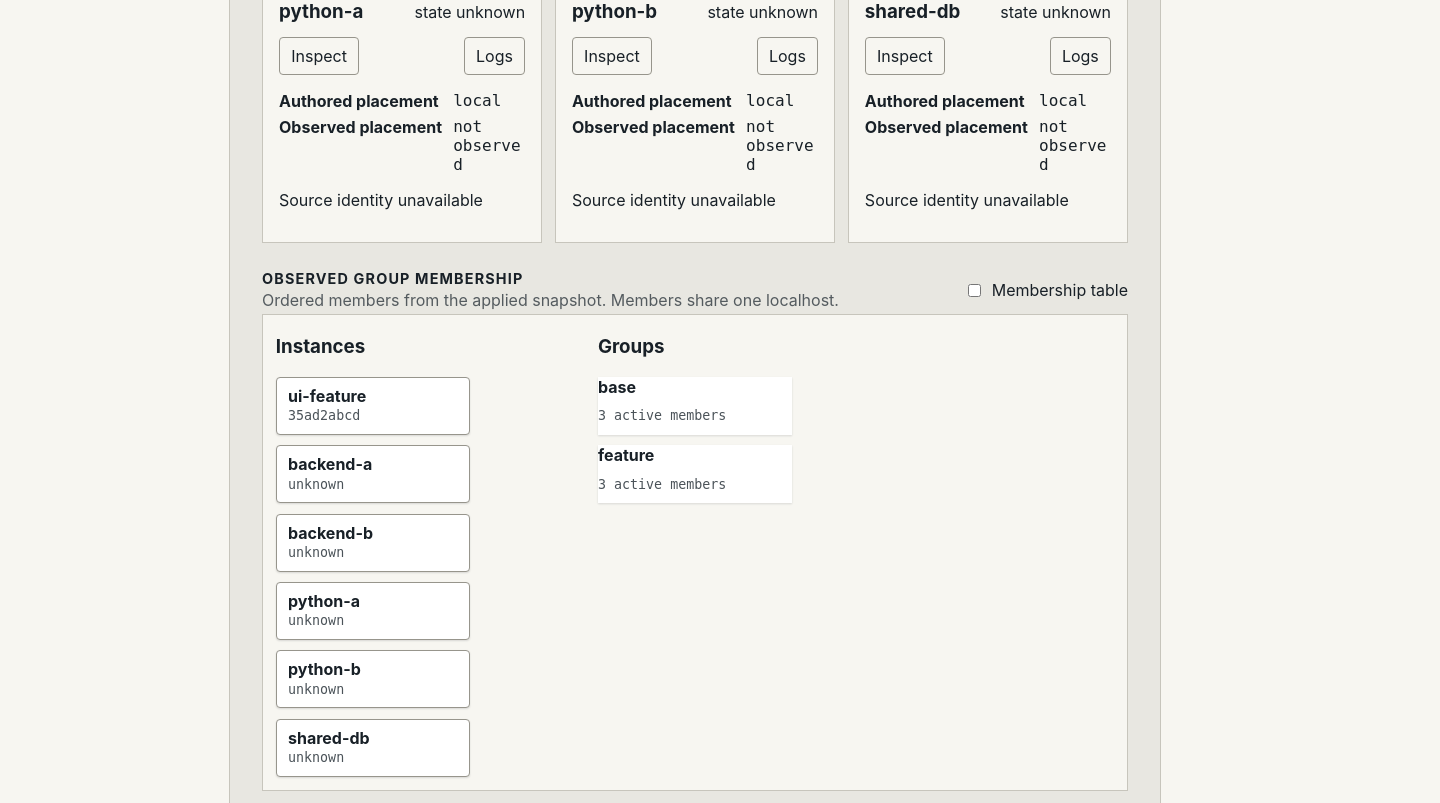
it: APM ProjectRunner GUI › shows a failed post-switch report with durable error and rollback observations
The image size is (1440, 803).
(page scrolled)
Click the button "ui-feature 35ad2abcd".
click(373, 406)  # box [276,377,470,435]
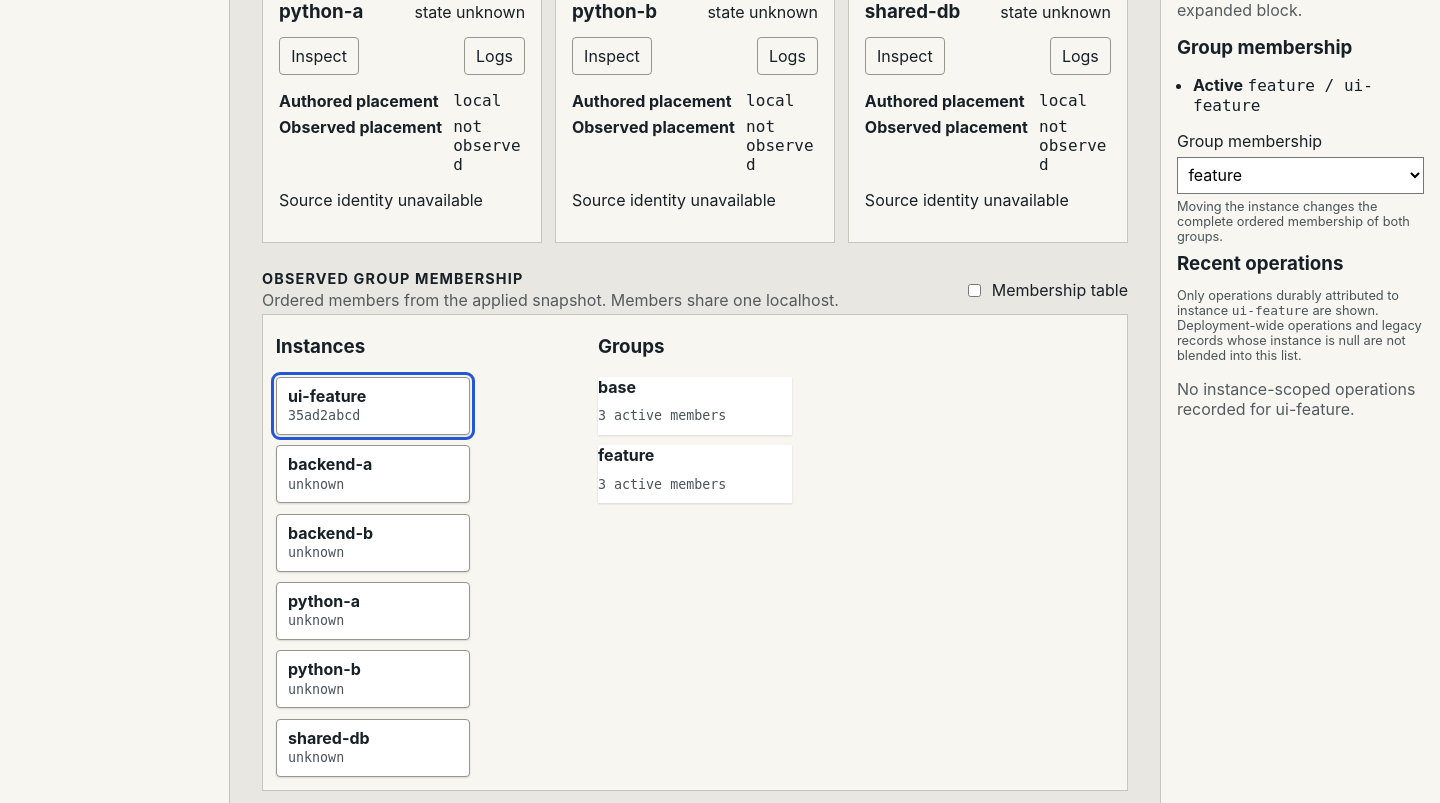
Select "base" in the dropdown named "Group for ui-feature" at (1300, 175), box [1177,157,1424,194]
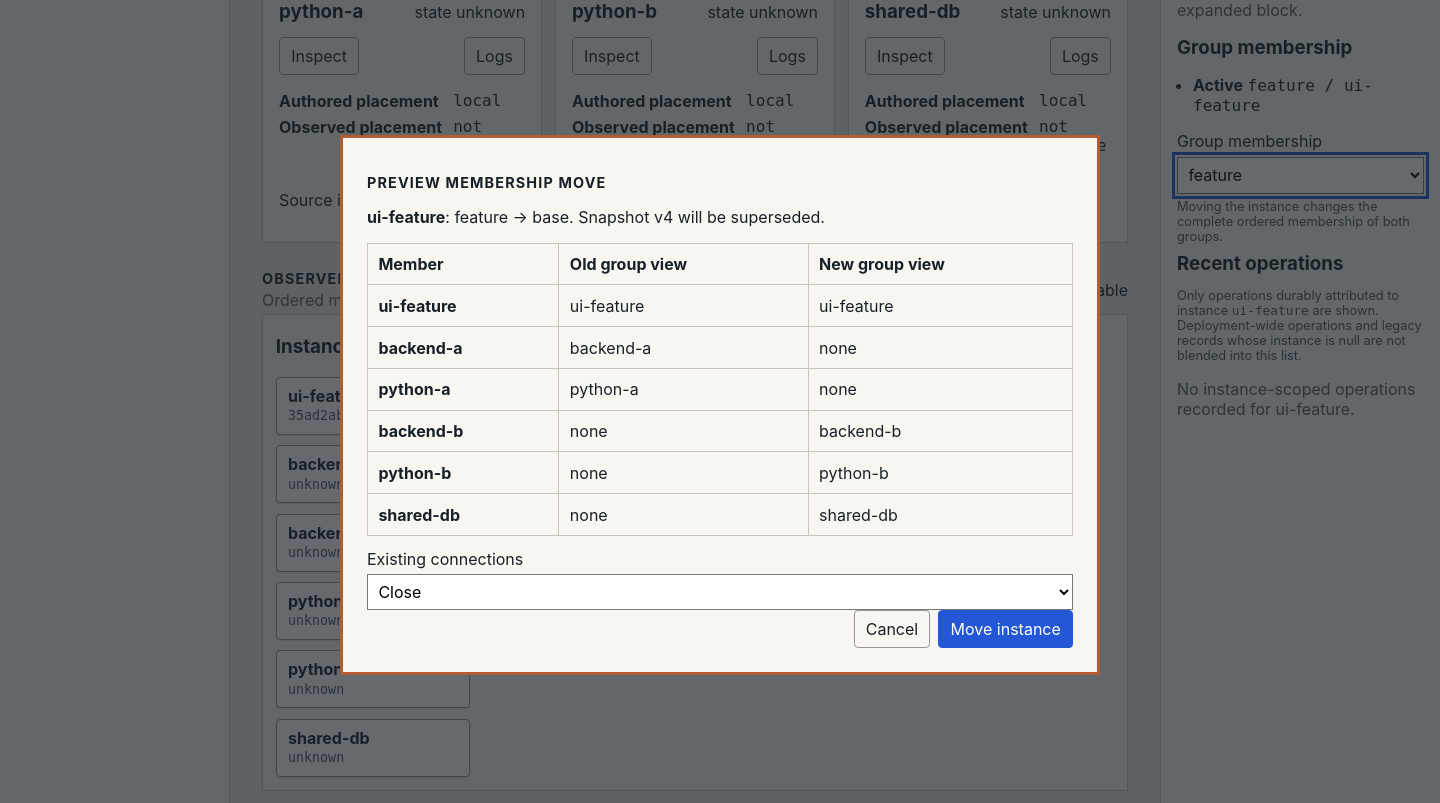
Click the button "Move instance".
click(1006, 629)  # box [938,610,1073,648]
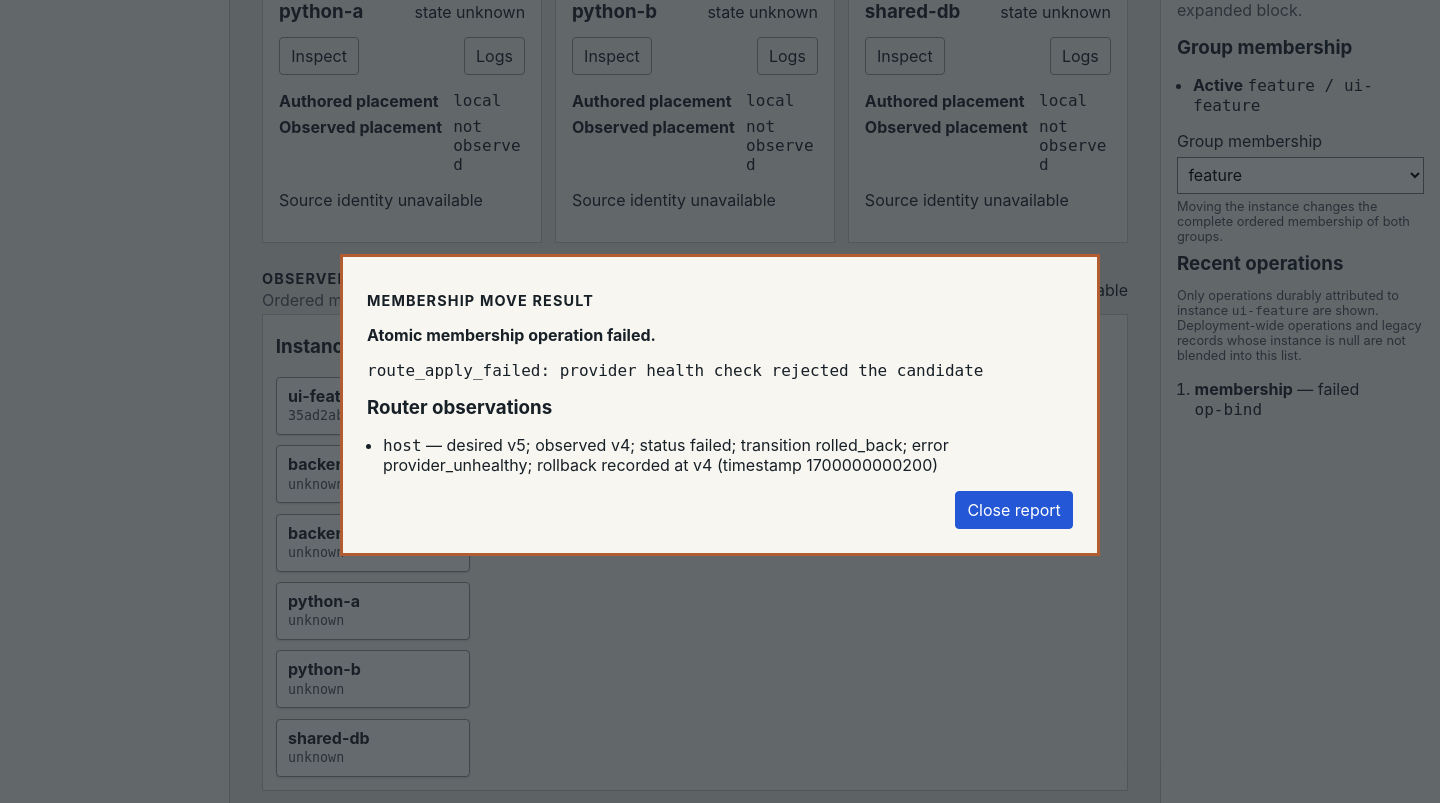
Check: the text "Atomic membership operation failed." is shown, box [367,326,656,346]
Check: the text "route_apply_failed: provider health check rejected the candidate" is shown, box [367,362,1073,380]
Check: the list item "status failed; transition rolled_back; error provider_unhealthy; rollback recorded at v4" is shown, box [383,436,949,476]
